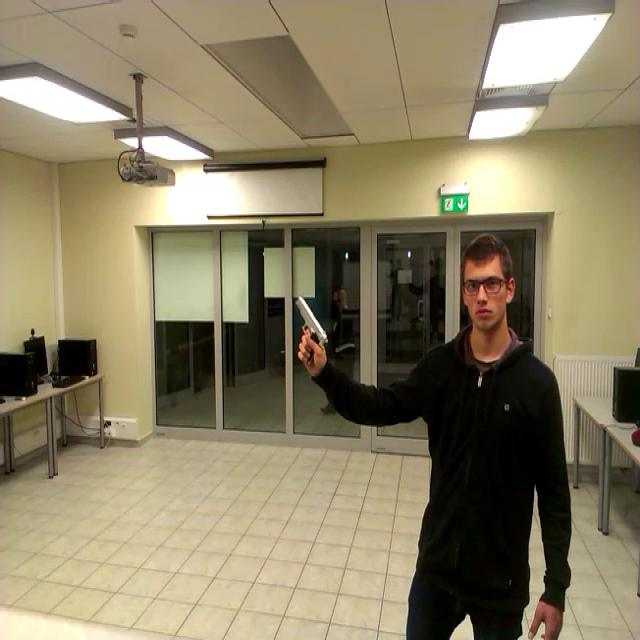handgun: (286, 292, 330, 377)
